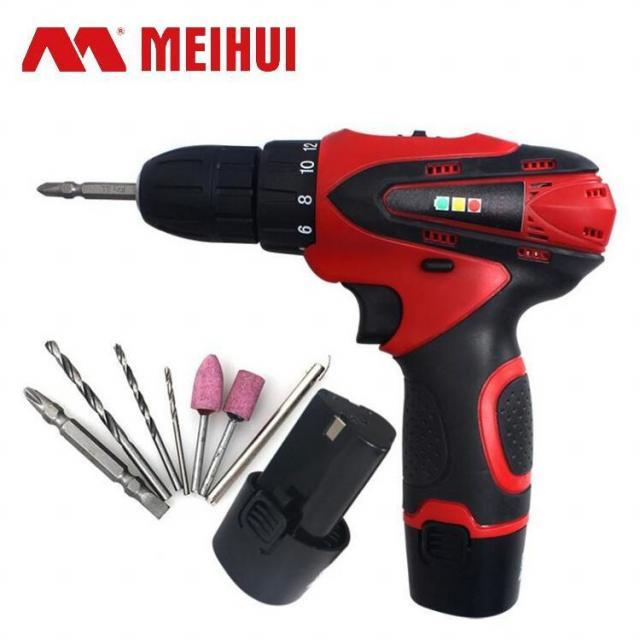drill: (36, 127, 620, 620)
